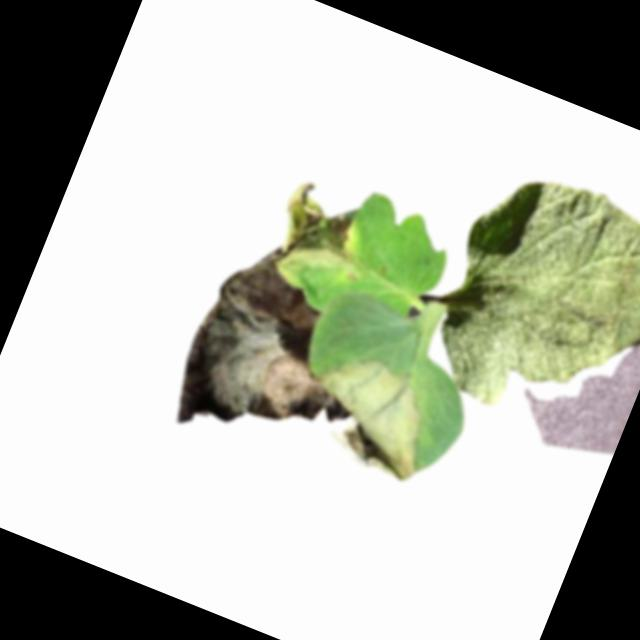Late_blight: (160, 226, 401, 483), (293, 342, 450, 491), (267, 177, 364, 284)
